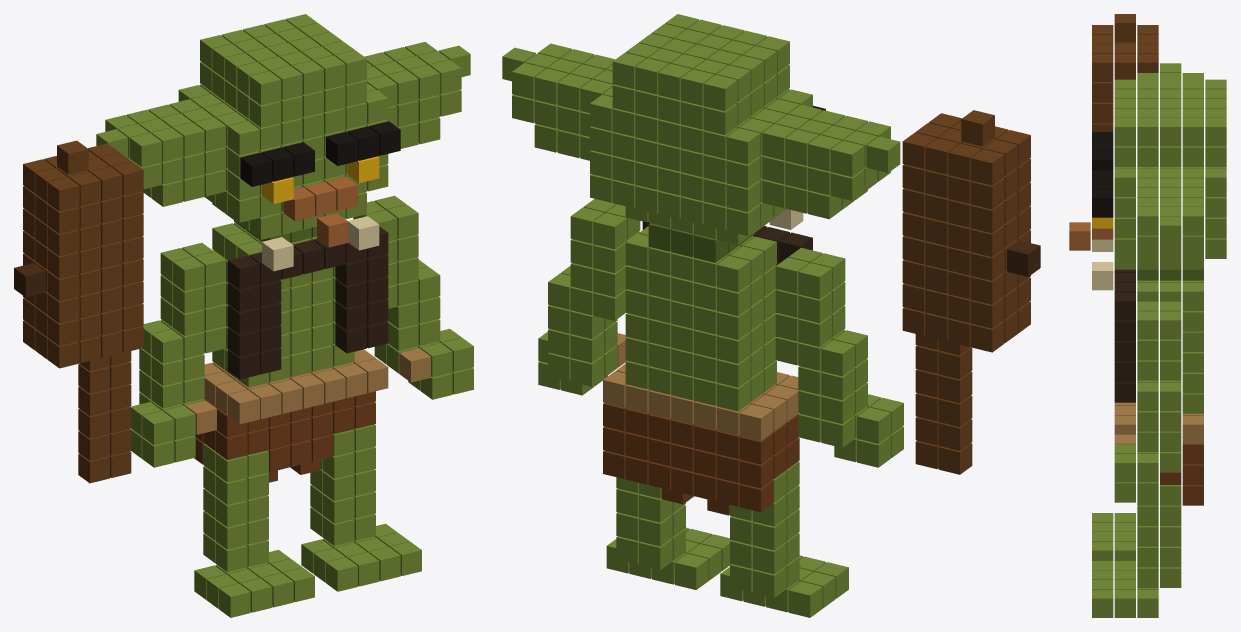
File: goblin-voxel.obj
The picture shows the model from 3 angles, left to right: view 1: azimuth 30°, elevation 25°; view 2: azimuth 150°, elevation 25°; view 3: azimuth 270°, elevation 25°; orthographic projection. The views are drawn at different scales.
Parts seen in each view (by area): view 1: skin, wood, leather, wrap, pants, brow, earInner, tooth, eye, woodDark; view 2: skin, wood, pants, wrap, skinDark, leather, woodDark; view 3: skin, wood, leather, brow, pants, wrap, tooth, earInner, skinDark, eye.
Part boxes in pixels (x1,y1,x2,y2): skin: [96, 14, 473, 617]; wood: [23, 140, 143, 483]; leather: [228, 226, 388, 379]; wrap: [185, 348, 430, 434]; pants: [194, 391, 375, 482]; brow: [240, 121, 400, 186]; earInner: [283, 176, 357, 247]; tooth: [262, 216, 379, 271]; eye: [262, 156, 379, 203]; woodDark: [14, 263, 45, 297]; skin: [502, 14, 903, 617]; wood: [902, 110, 1030, 474]; pants: [603, 403, 799, 515]; wrap: [603, 333, 799, 440]; skinDark: [648, 223, 754, 262]; leather: [642, 221, 812, 336]; woodDark: [1007, 240, 1040, 276]; skin: [1092, 63, 1226, 617]; wood: [1092, 14, 1158, 131]; leather: [1114, 269, 1135, 402]; brow: [1092, 132, 1113, 217]; pants: [1160, 444, 1203, 505]; wrap: [1114, 402, 1203, 444]; tooth: [1092, 239, 1113, 290]; earInner: [1069, 222, 1113, 250]; skinDark: [1137, 269, 1203, 280]; eye: [1092, 217, 1113, 228].
Size of the model in its own units: 2.63 by 2.75 by 0.8328.
